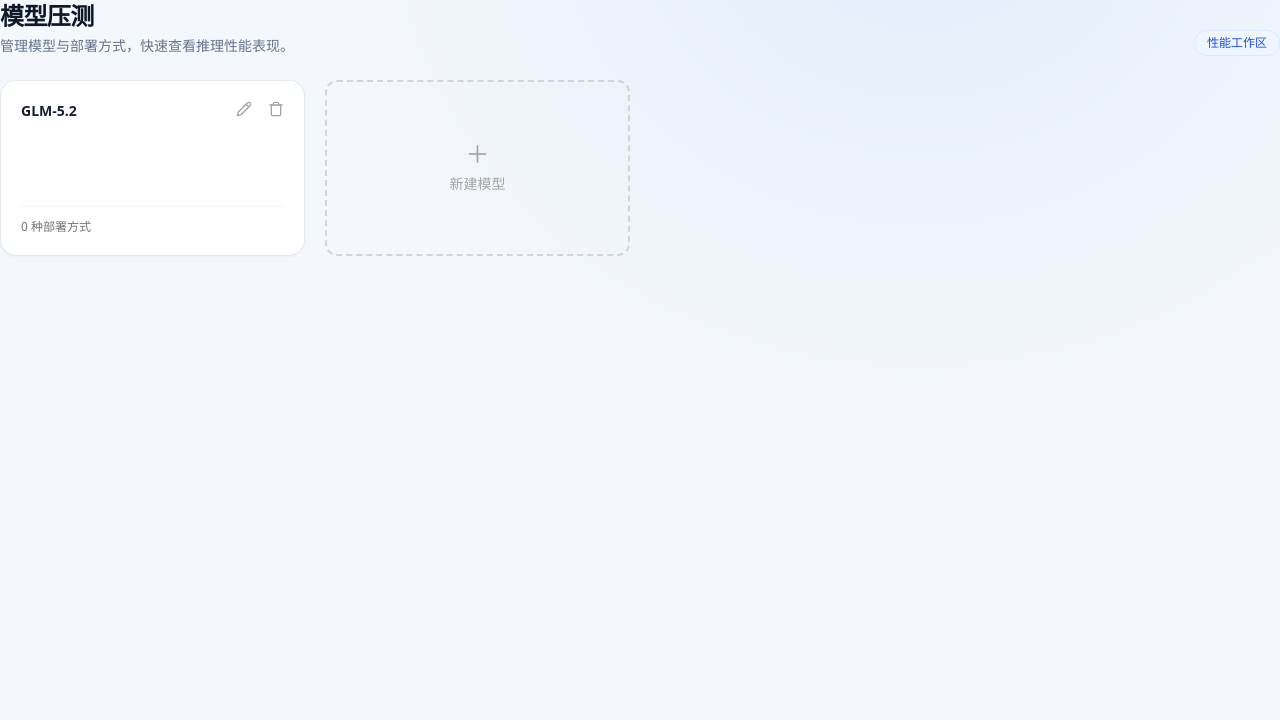
Test: deleting a model asks first, then removes the card
Click the button named "删除 GLM-5.2".
click(276, 109)  # box top-left (262, 95), bottom-right (290, 123)
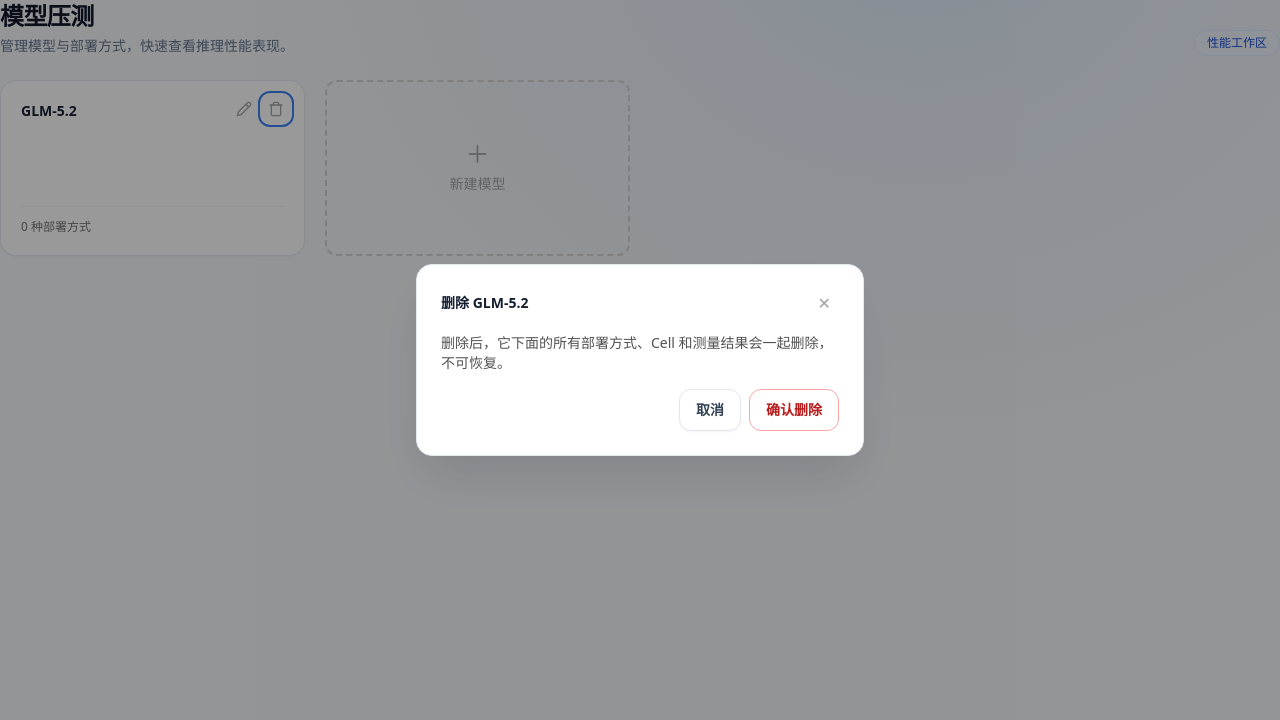
Expected: the link "GLM-5.2" is shown, top-left (21, 101), bottom-right (77, 120)
Result: the text "删除后，它下面的所有部署方式、Cell 和测量结果会一起删除，不可恢复。" is shown at top-left (441, 333), bottom-right (839, 373)
Click the button "确认删除".
click(794, 410)  # box top-left (749, 389), bottom-right (839, 431)
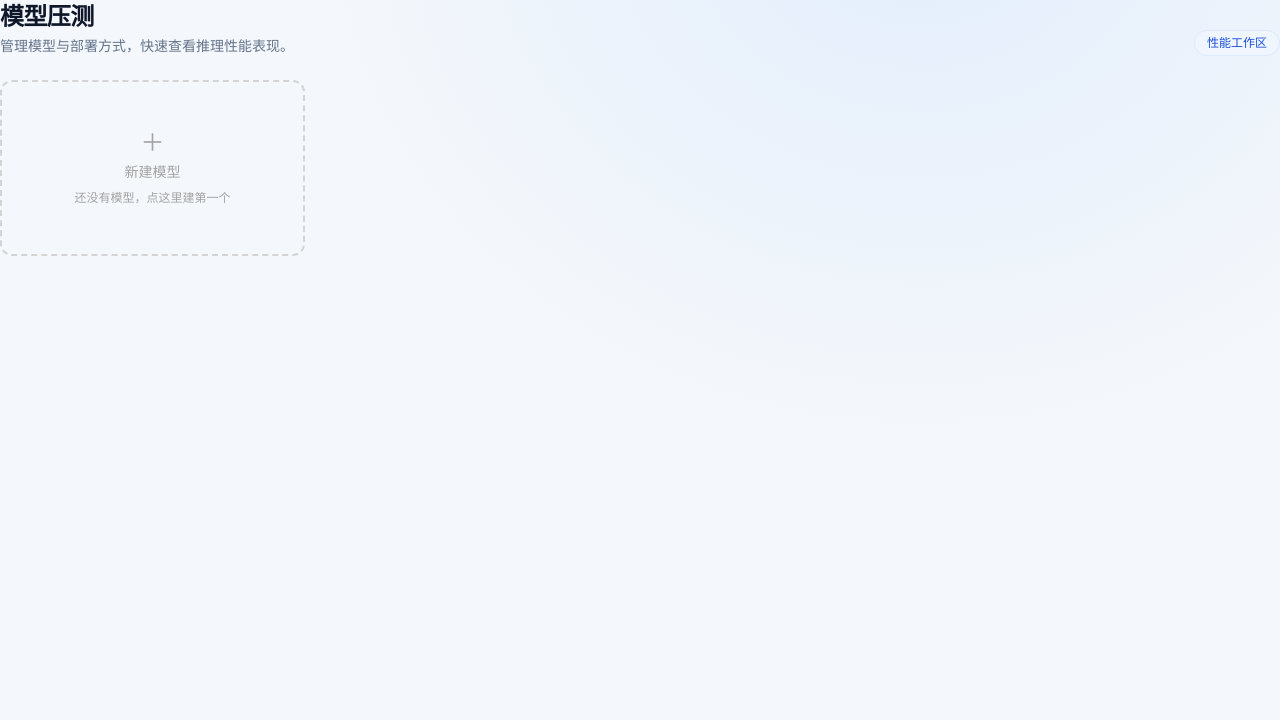
Result: the link "GLM-5.2" is gone
